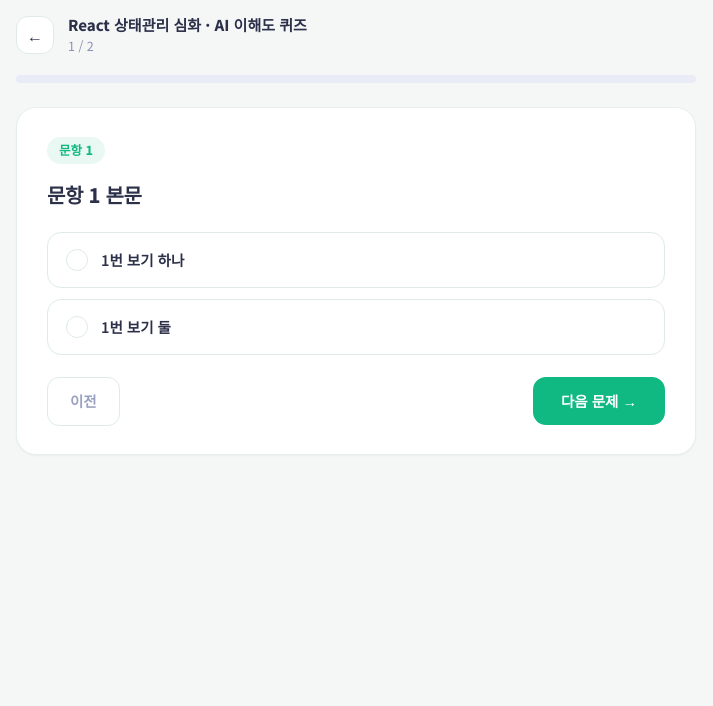
Scenario: QuizScreen › 제출하면 점수와 문항별 정답·해설을 보여준다
Click the button "1번 보기 하나": (143, 260) top-left (47, 232), bottom-right (665, 288)
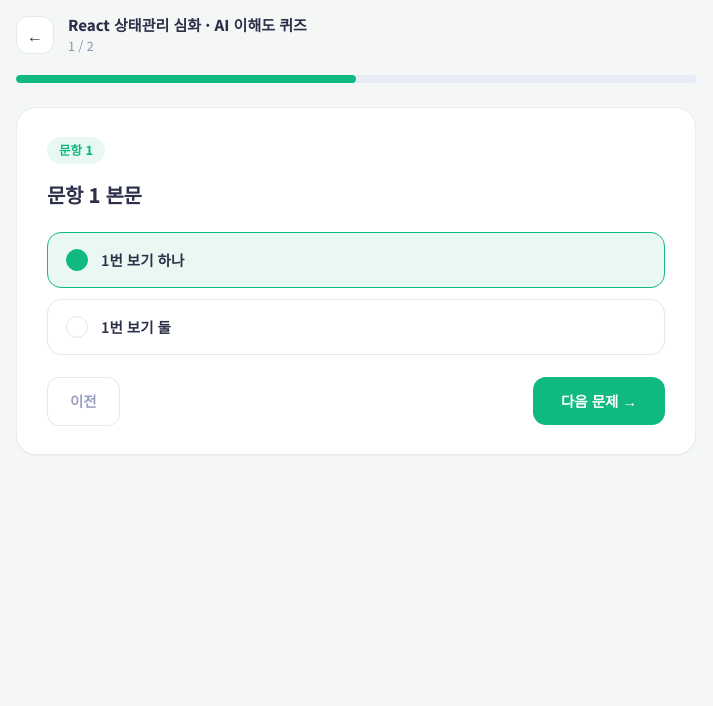
Click the button "다음 문제 →": (599, 401) top-left (533, 377), bottom-right (665, 425)
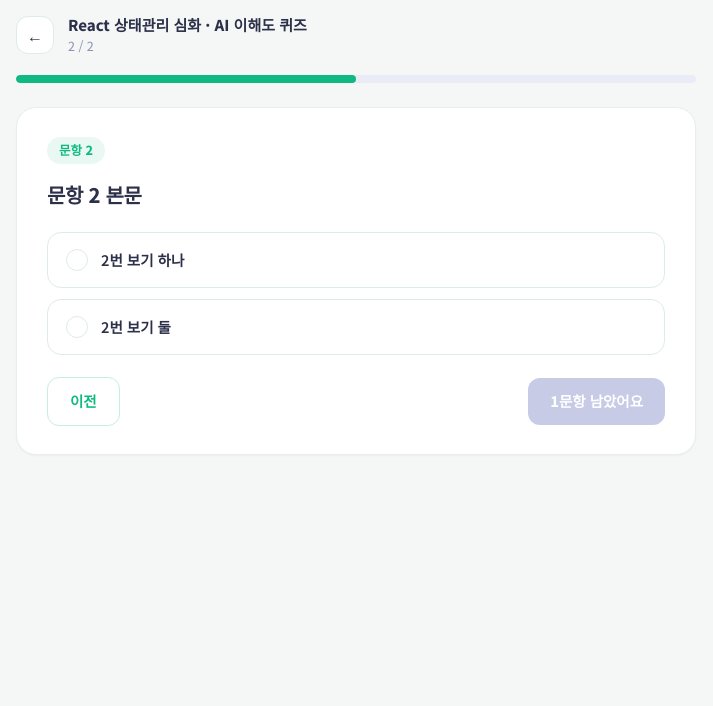
Click the button "2번 보기 하나": (143, 260) top-left (47, 232), bottom-right (665, 288)
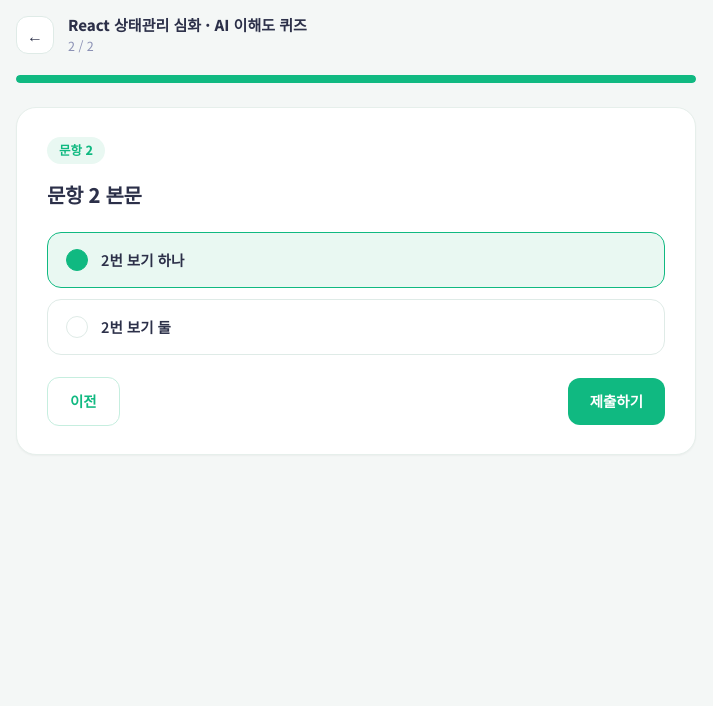
Click the button "제출하기": (616, 401) top-left (568, 378), bottom-right (665, 425)
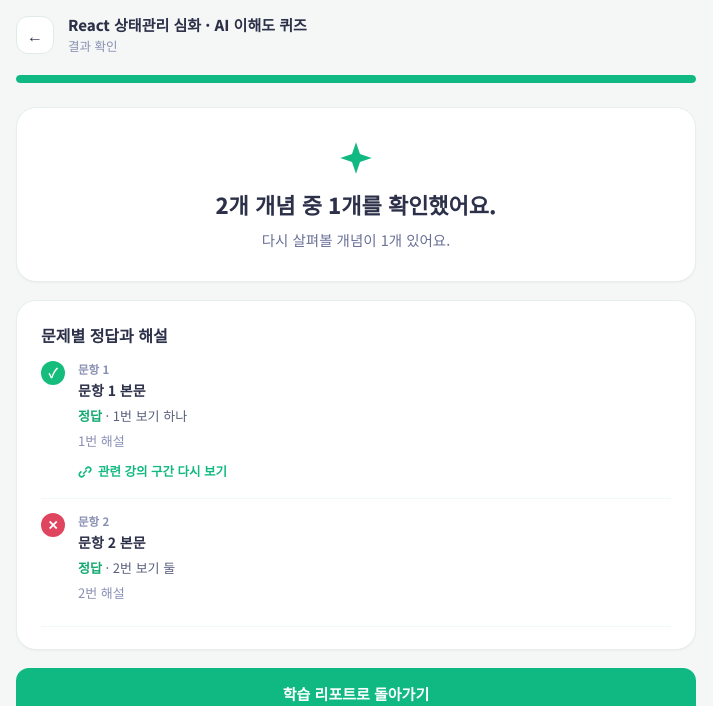
Expected: the heading "2개 개념 중 1개를 확인했어요." is shown, top-left (215, 188), bottom-right (497, 220)
Expected: the text "다시 살펴볼 개념이 1개 있어요." is shown, top-left (262, 229), bottom-right (450, 250)
Expected: the text "1번 해설" is shown, top-left (78, 431), bottom-right (125, 450)
